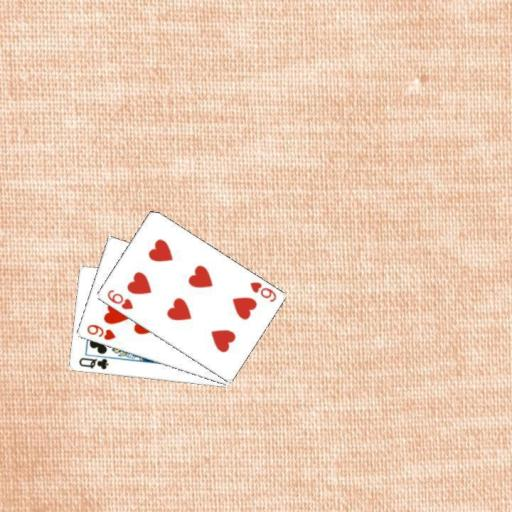card-corner: (247, 278, 277, 304), (104, 286, 134, 310), (83, 321, 117, 342), (76, 355, 110, 371)
